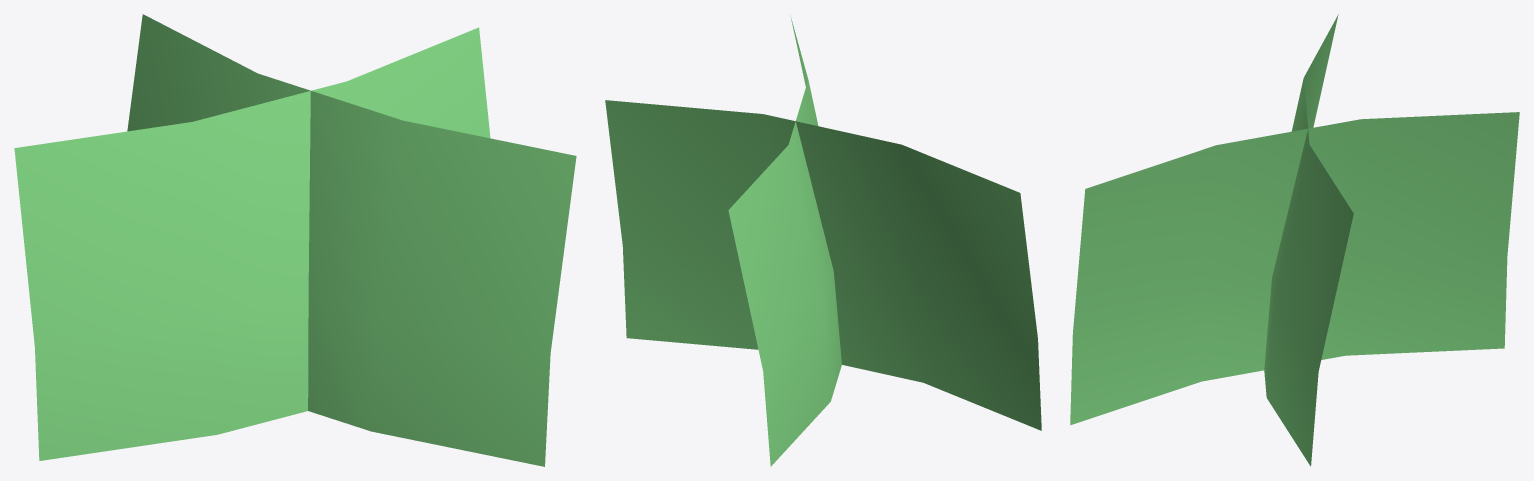
Rendered from GrassPlanes_a_TwoS_05.fbx.
The picture shows the model from 3 angles, left to right: view 1: azimuth 30°, elevation 25°; view 2: azimuth 150°, elevation 25°; view 3: azimuth 270°, elevation 25°; orthographic projection. The views are drawn at different scales.
Parts seen in each view (by area): view 1: GrassPlanes_a_TwoS_05; view 2: GrassPlanes_a_TwoS_05; view 3: GrassPlanes_a_TwoS_05.
Part boxes in pixels (<box>): GrassPlanes_a_TwoS_05: <box>14,14,576,466</box>; GrassPlanes_a_TwoS_05: <box>605,15,1041,466</box>; GrassPlanes_a_TwoS_05: <box>1070,14,1519,466</box>.
Bounding box in the file's own units: 83.05 × 50.04 × 79.45.
